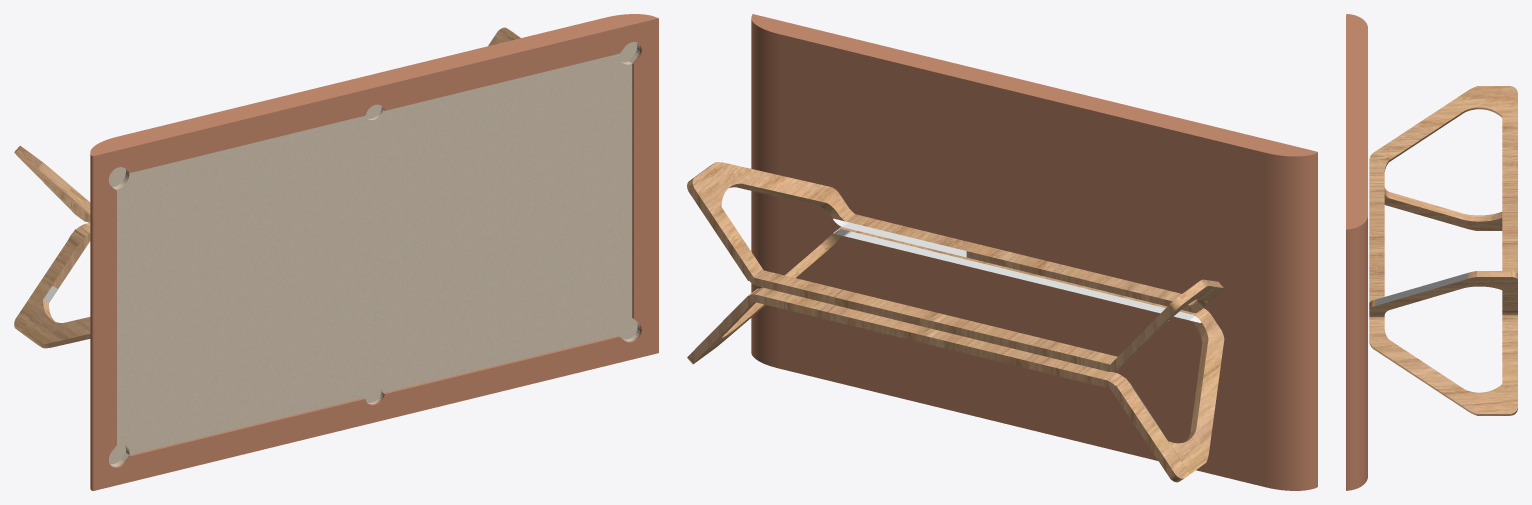
Rendered from aurora.glb.
3 views of the same model, side by side, from view 1: azimuth 30°, elevation 25°; view 2: azimuth 150°, elevation 25°; view 3: azimuth 270°, elevation 25° (orthographic). The views are drawn at different scales.
Parts seen in each view (by area): view 1: ID549, ID571, ID621, ID216, ID5; view 2: ID621, ID5, ID216, ID216_1, ID5_1; view 3: ID621, ID5, ID216, ID5_1.
Part boxes in pixels (box(x1,y1,x2,y2)): ID549: box(108, 42, 640, 466); ID571: box(99, 28, 650, 481); ID621: box(90, 14, 658, 490); ID216: box(14, 222, 90, 348); ID5: box(14, 27, 520, 222); ID621: box(751, 14, 1317, 490); ID5: box(687, 162, 1223, 371); ID216: box(687, 226, 1224, 482); ID216_1: box(833, 228, 1201, 456); ID5_1: box(741, 218, 1217, 323); ID621: box(1346, 14, 1367, 490); ID5: box(1369, 86, 1517, 317); ID216: box(1369, 187, 1517, 415); ID5_1: box(1375, 273, 1468, 305).
Size of the model in its own units: 90.59 by 51.27 by 30.47.
Materials: 7 (6 with a texture image).
